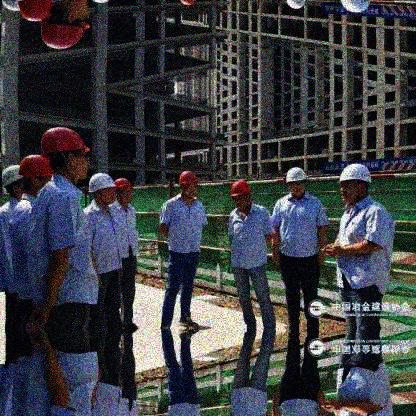helmet: (40, 126, 91, 187), (40, 1, 92, 49), (338, 163, 374, 205), (18, 155, 52, 198), (89, 174, 115, 210), (2, 163, 23, 200), (230, 179, 251, 211), (285, 168, 307, 198), (179, 169, 199, 200), (115, 177, 133, 205)
